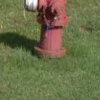Hydrant: (19, 0, 74, 68)
